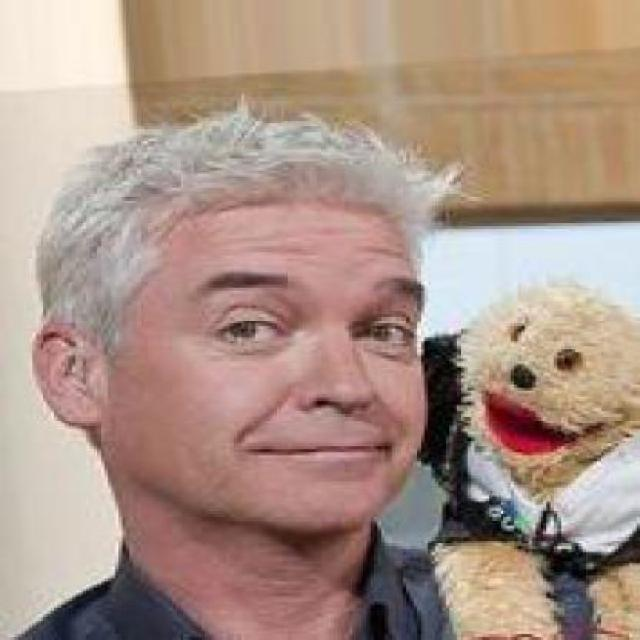closed-mouth: (238, 426, 397, 466)
